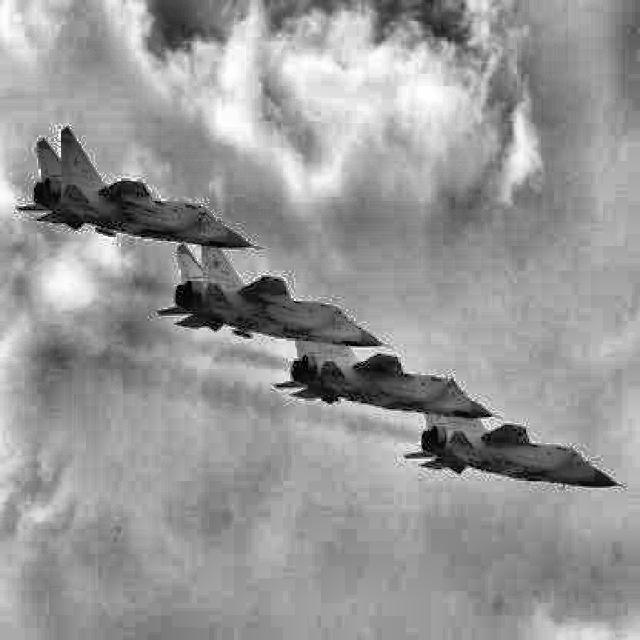Mig31: (15, 125, 262, 250), (156, 243, 395, 348), (274, 340, 503, 422), (403, 413, 626, 490)
